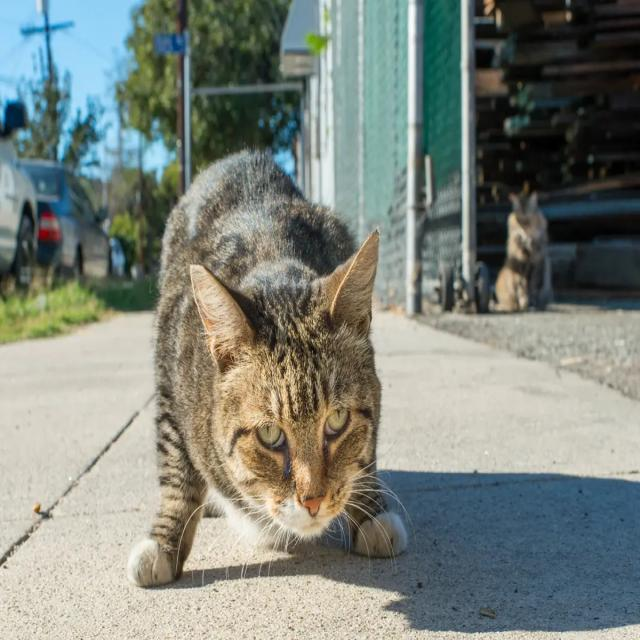cat: (128, 152, 406, 586)
